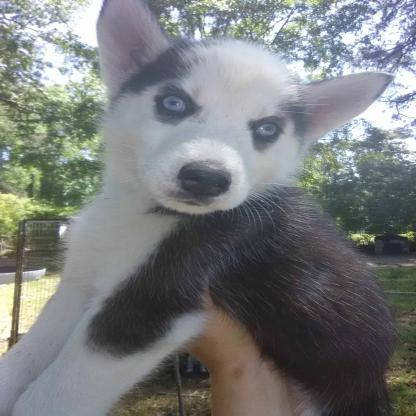dog: (1, 1, 399, 416)
